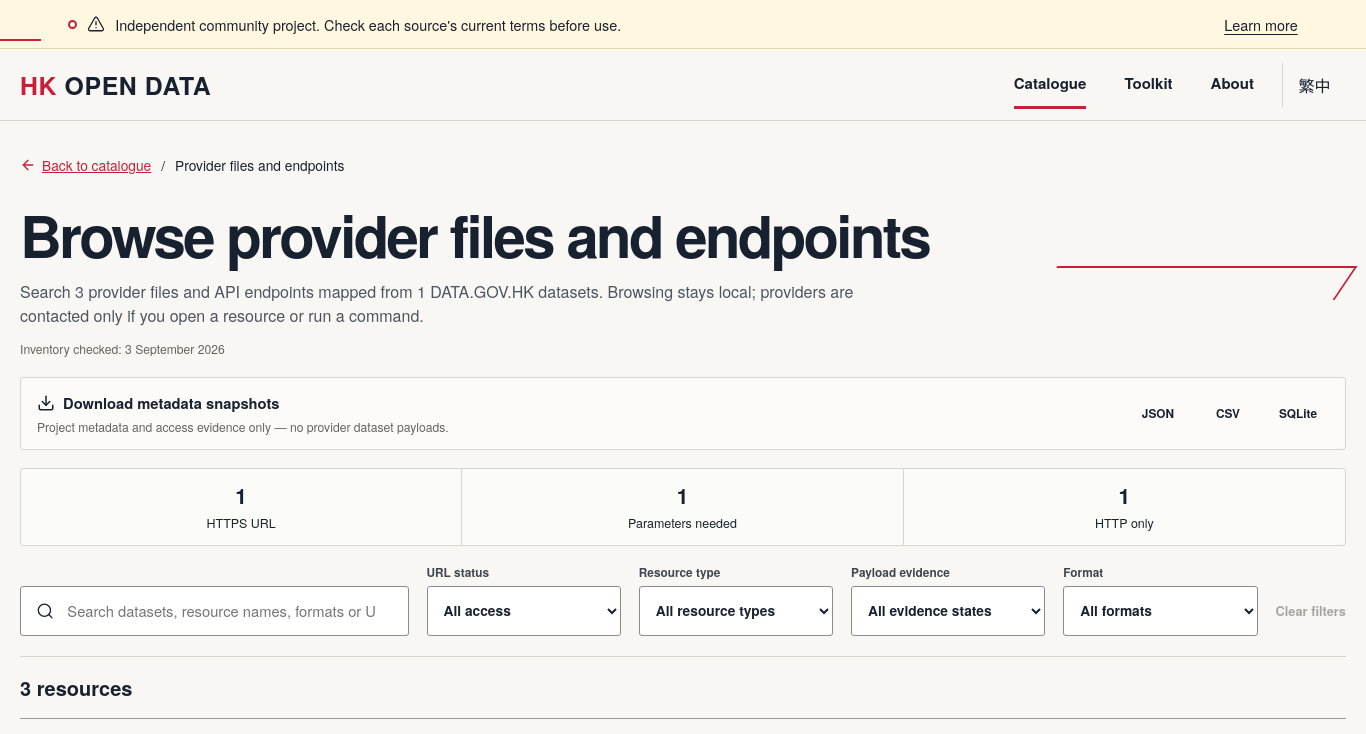
Scenario: provider-resource browser › returns to the catalogue without reloading the page
Expected: the heading "Browse provider files and endpoints" is shown, [20,207,970,264]
Click the button "Back to catalogue".
click(86, 165)  # box [20,147,151,183]
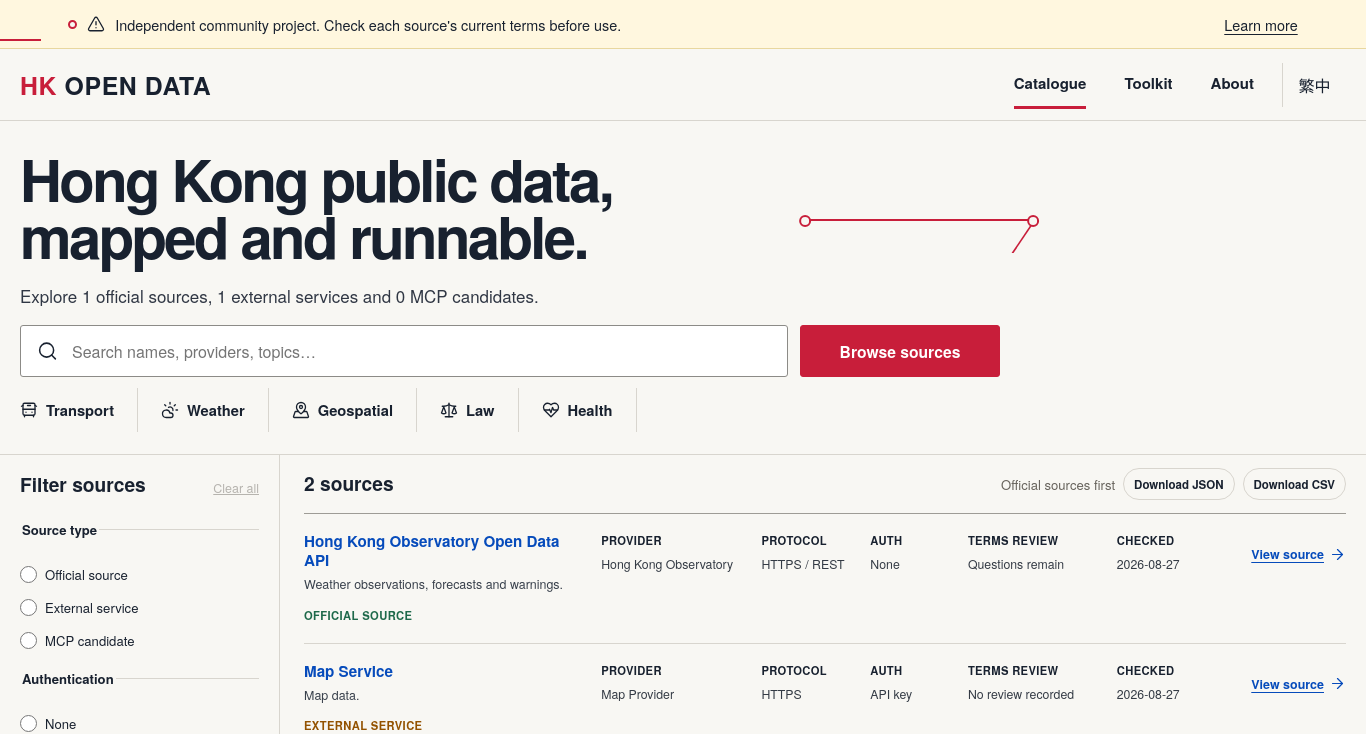
Result: the heading "Hong Kong public data, mapped and runnable." is shown at [20,137,612,277]
